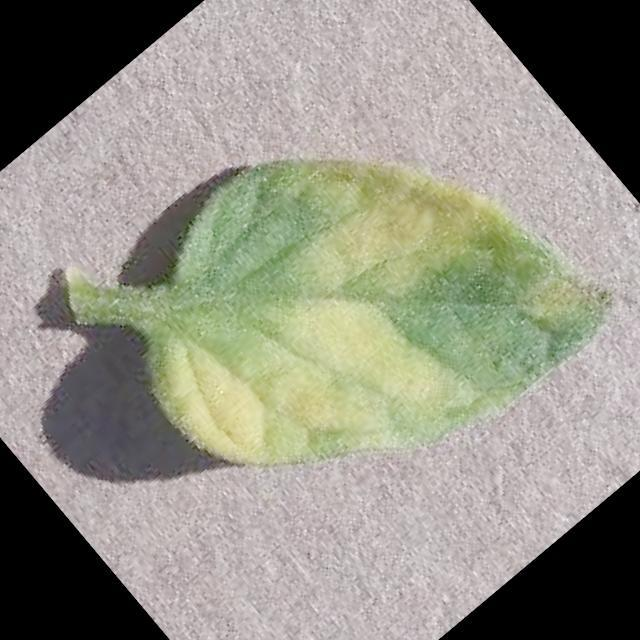Tomato mold leaf: (71, 39, 623, 586)
